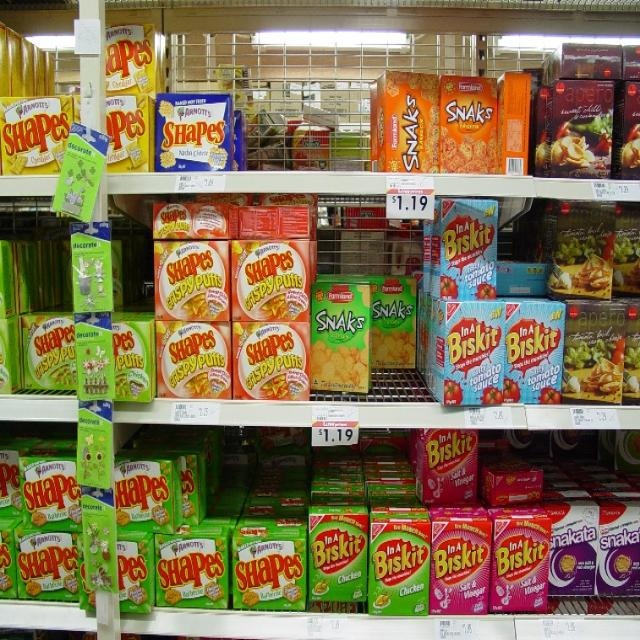q286: (311, 500, 368, 611), (373, 505, 427, 619)
